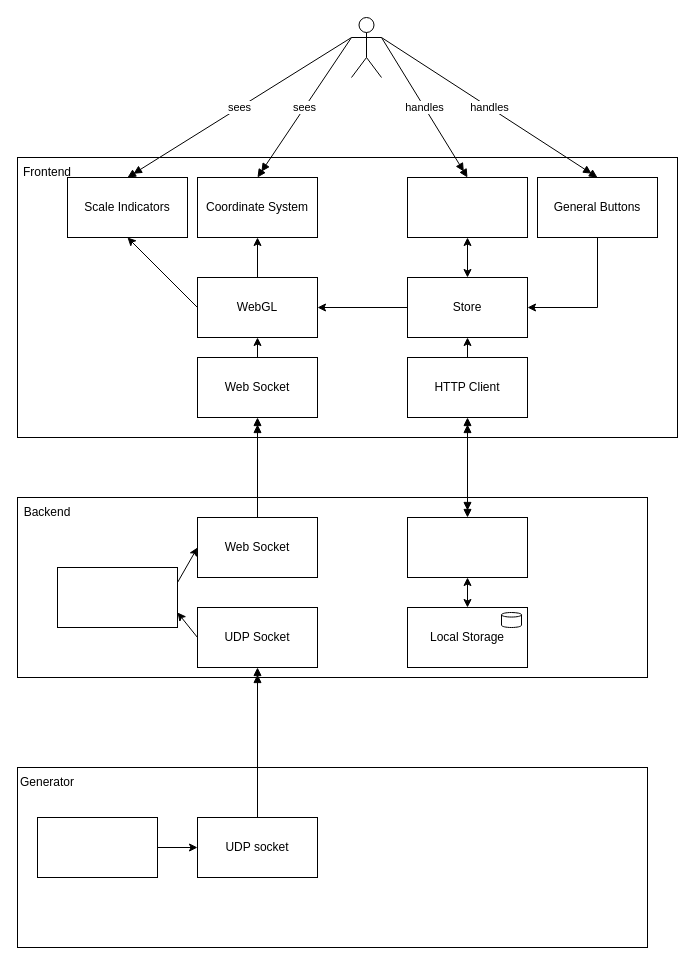
Some shapes in this 695 by 965 pixel diagram are drawn without their labels. Each missing label, with the centre of its shape:
Actor: [366,47]
Bottom Control Panel: [467,207]
Packet Accumulator: [117,597]
REST API: [467,547]
sample generator: [97,847]
